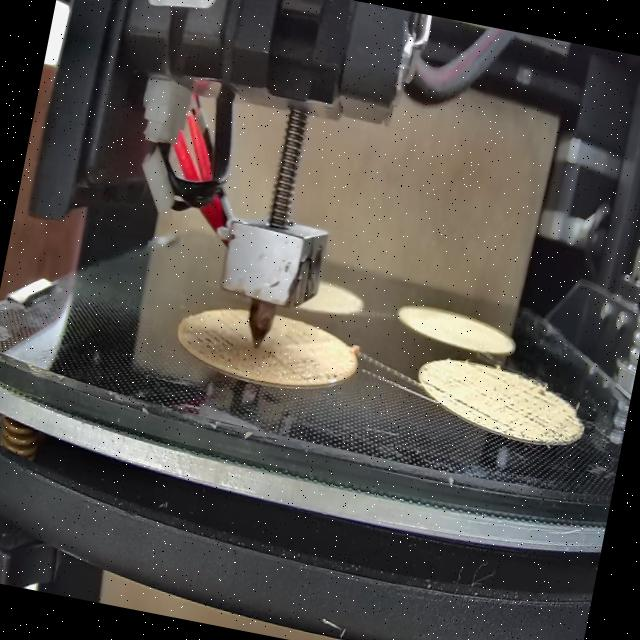under_extrusion: (450, 367, 588, 446), (181, 330, 320, 389), (417, 378, 448, 404), (320, 366, 346, 392)
